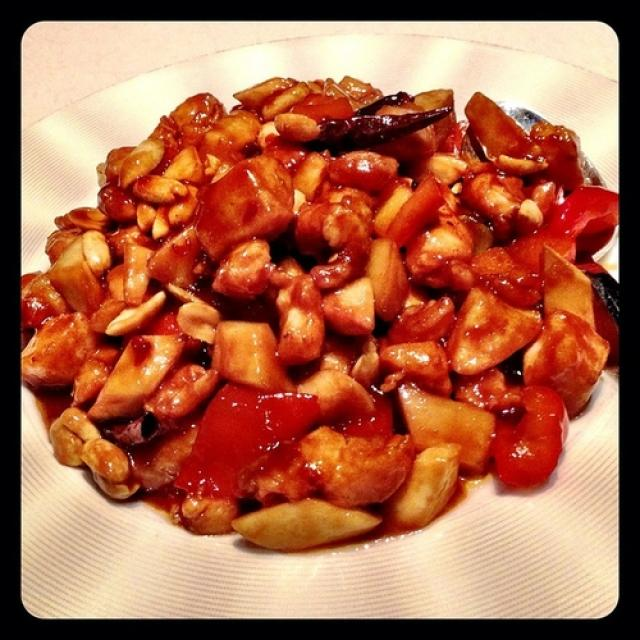鸡肉料理 含炸鸡: (18, 45, 623, 572)
